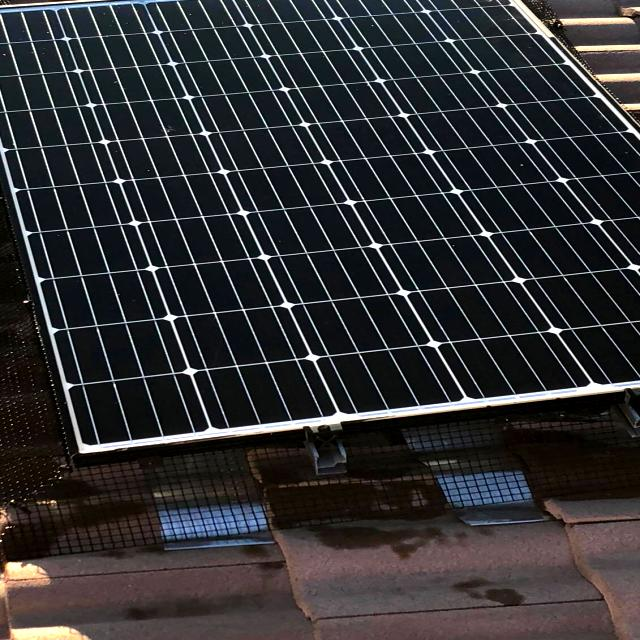crack: (0, 0, 629, 448)
